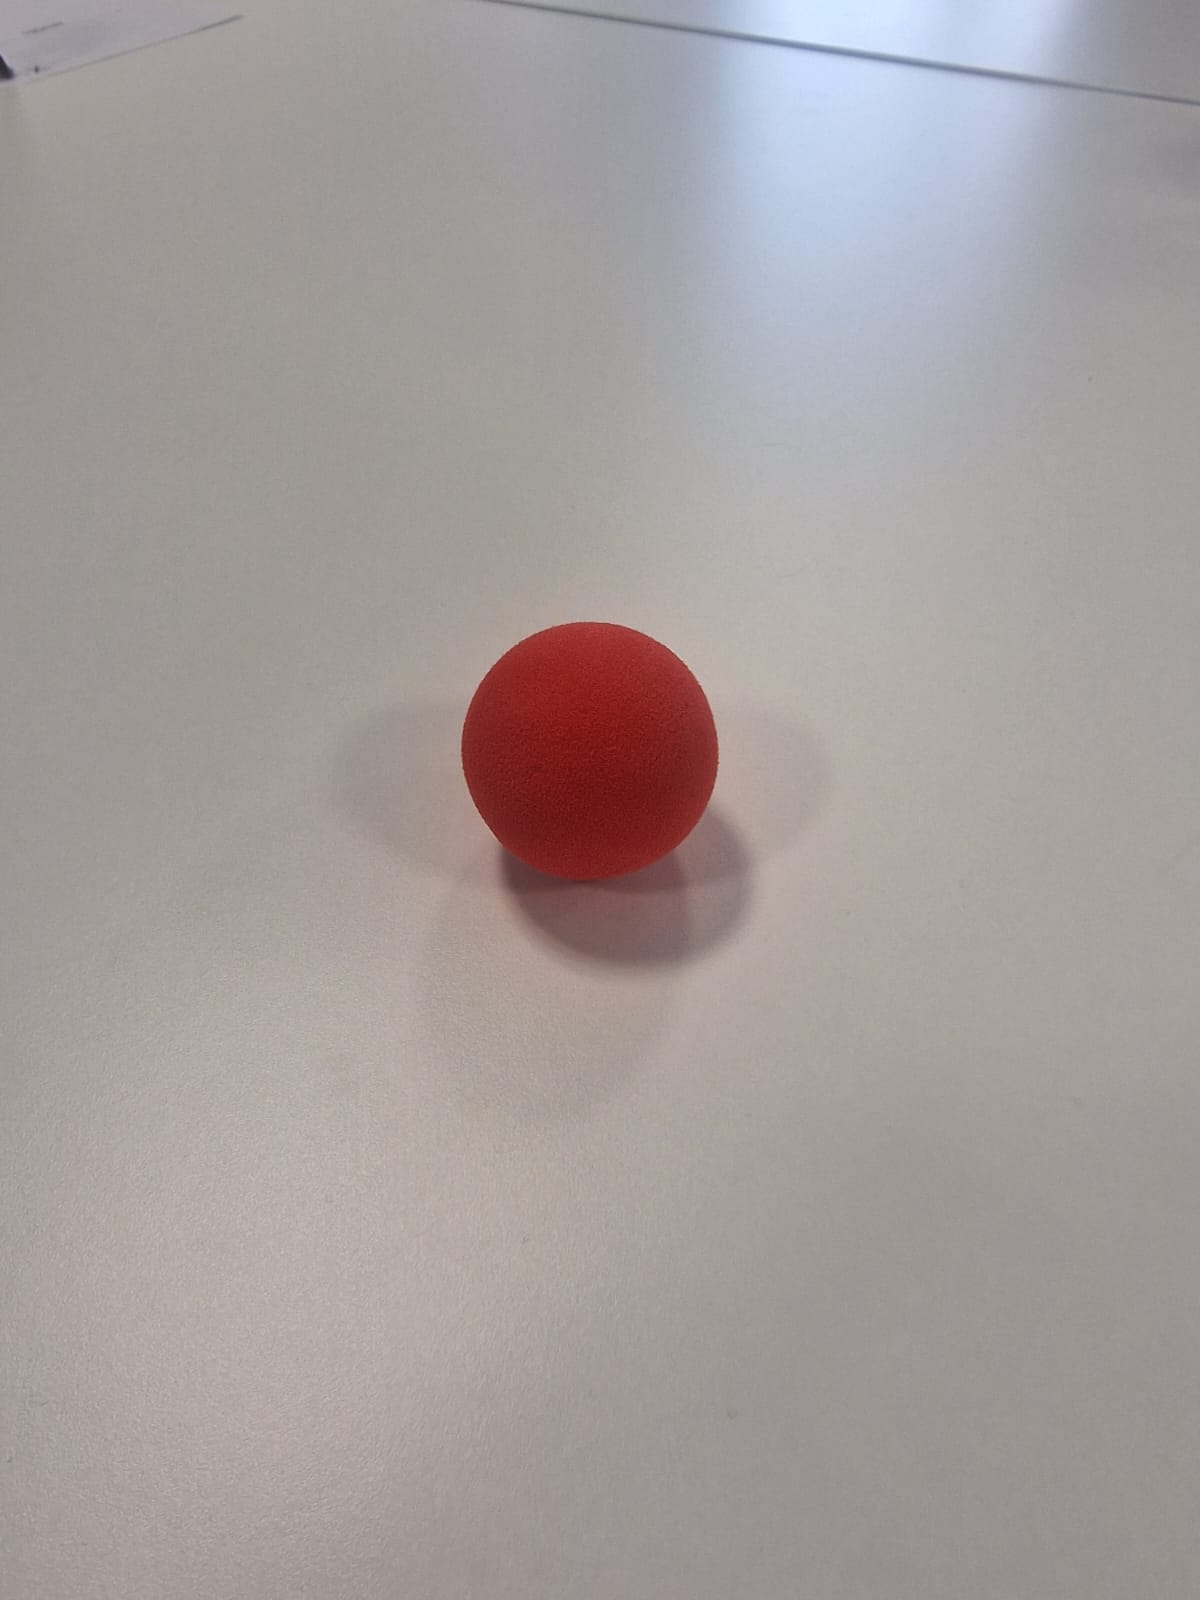bola_cerca: (463, 615, 721, 892)
